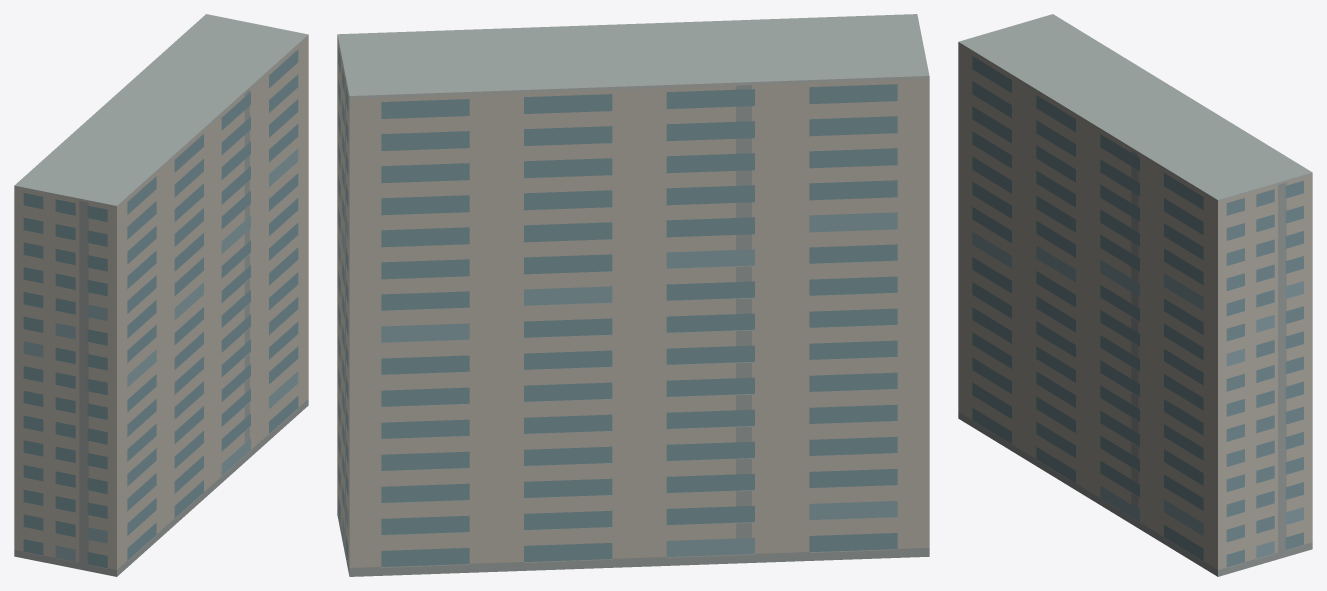
File: residential-76dd0db4-2ca5-48b7-953e-bb9cefe7a339.glb
3 views of the same model, side by side, from view 1: azimuth 30°, elevation 25°; view 2: azimuth 150°, elevation 25°; view 3: azimuth 270°, elevation 25° (orthographic). The views are drawn at different scales.
Visible parts, largest first — view 1: residential-76dd0db4-2ca5-48b7-953e-bb9cefe7a339.tmp; view 2: residential-76dd0db4-2ca5-48b7-953e-bb9cefe7a339.tmp; view 3: residential-76dd0db4-2ca5-48b7-953e-bb9cefe7a339.tmp.
Part boxes in pixels (<box>): residential-76dd0db4-2ca5-48b7-953e-bb9cefe7a339.tmp: <box>14,14,308,576</box>; residential-76dd0db4-2ca5-48b7-953e-bb9cefe7a339.tmp: <box>337,14,929,576</box>; residential-76dd0db4-2ca5-48b7-953e-bb9cefe7a339.tmp: <box>958,14,1312,576</box>.
Size of the model in its own units: 42.38 by 40 by 34.1.
